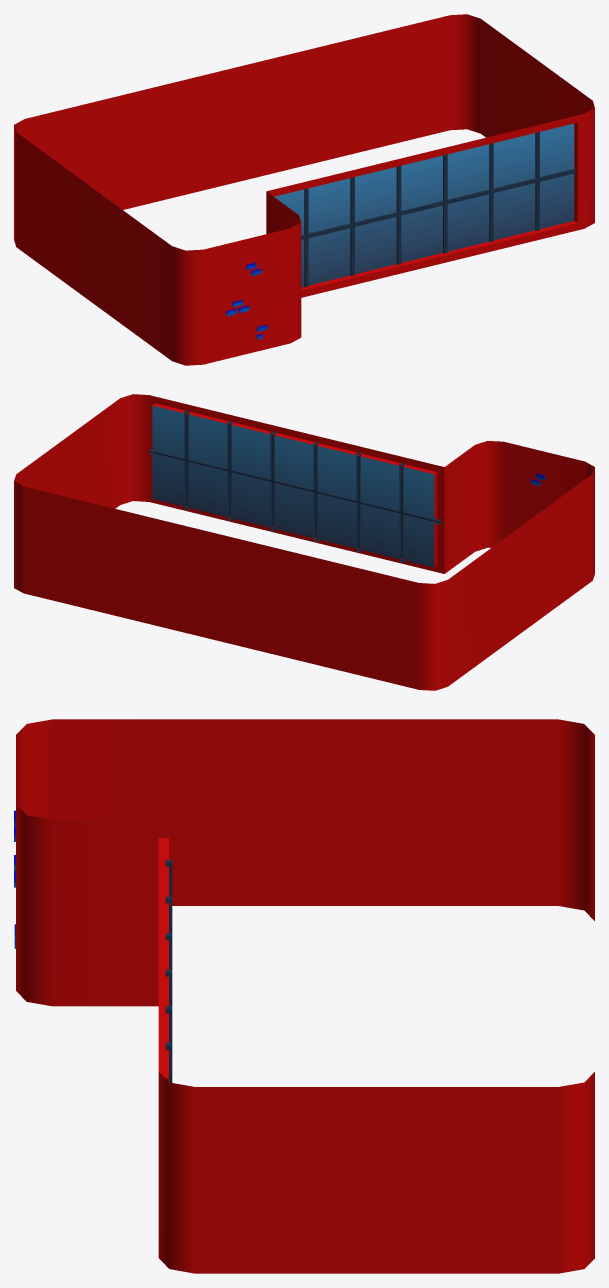
The model's file is Hospital_middle.fbx.
The picture shows the model from 3 angles, top to bottom: view 1: azimuth 30°, elevation 25°; view 2: azimuth 150°, elevation 25°; view 3: azimuth 270°, elevation 25°; orthographic projection. The views are drawn at different scales.
Visible parts, largest first — view 1: Cube.005; view 2: Cube.005; view 3: Cube.005.
Boxes of the visible parts, x1,y1,x2,y2 form: Cube.005: [14, 14, 594, 365]; Cube.005: [14, 394, 594, 690]; Cube.005: [14, 719, 594, 1273].
Size of the model in its own units: 366 by 86.67 by 245.
